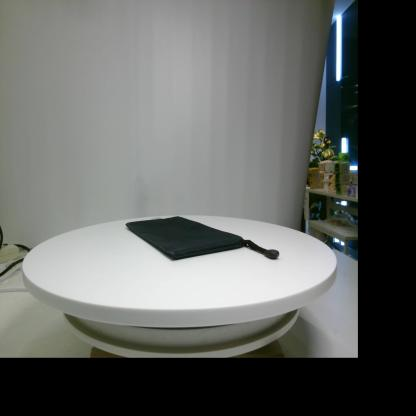Stationery: (126, 216, 280, 260)
